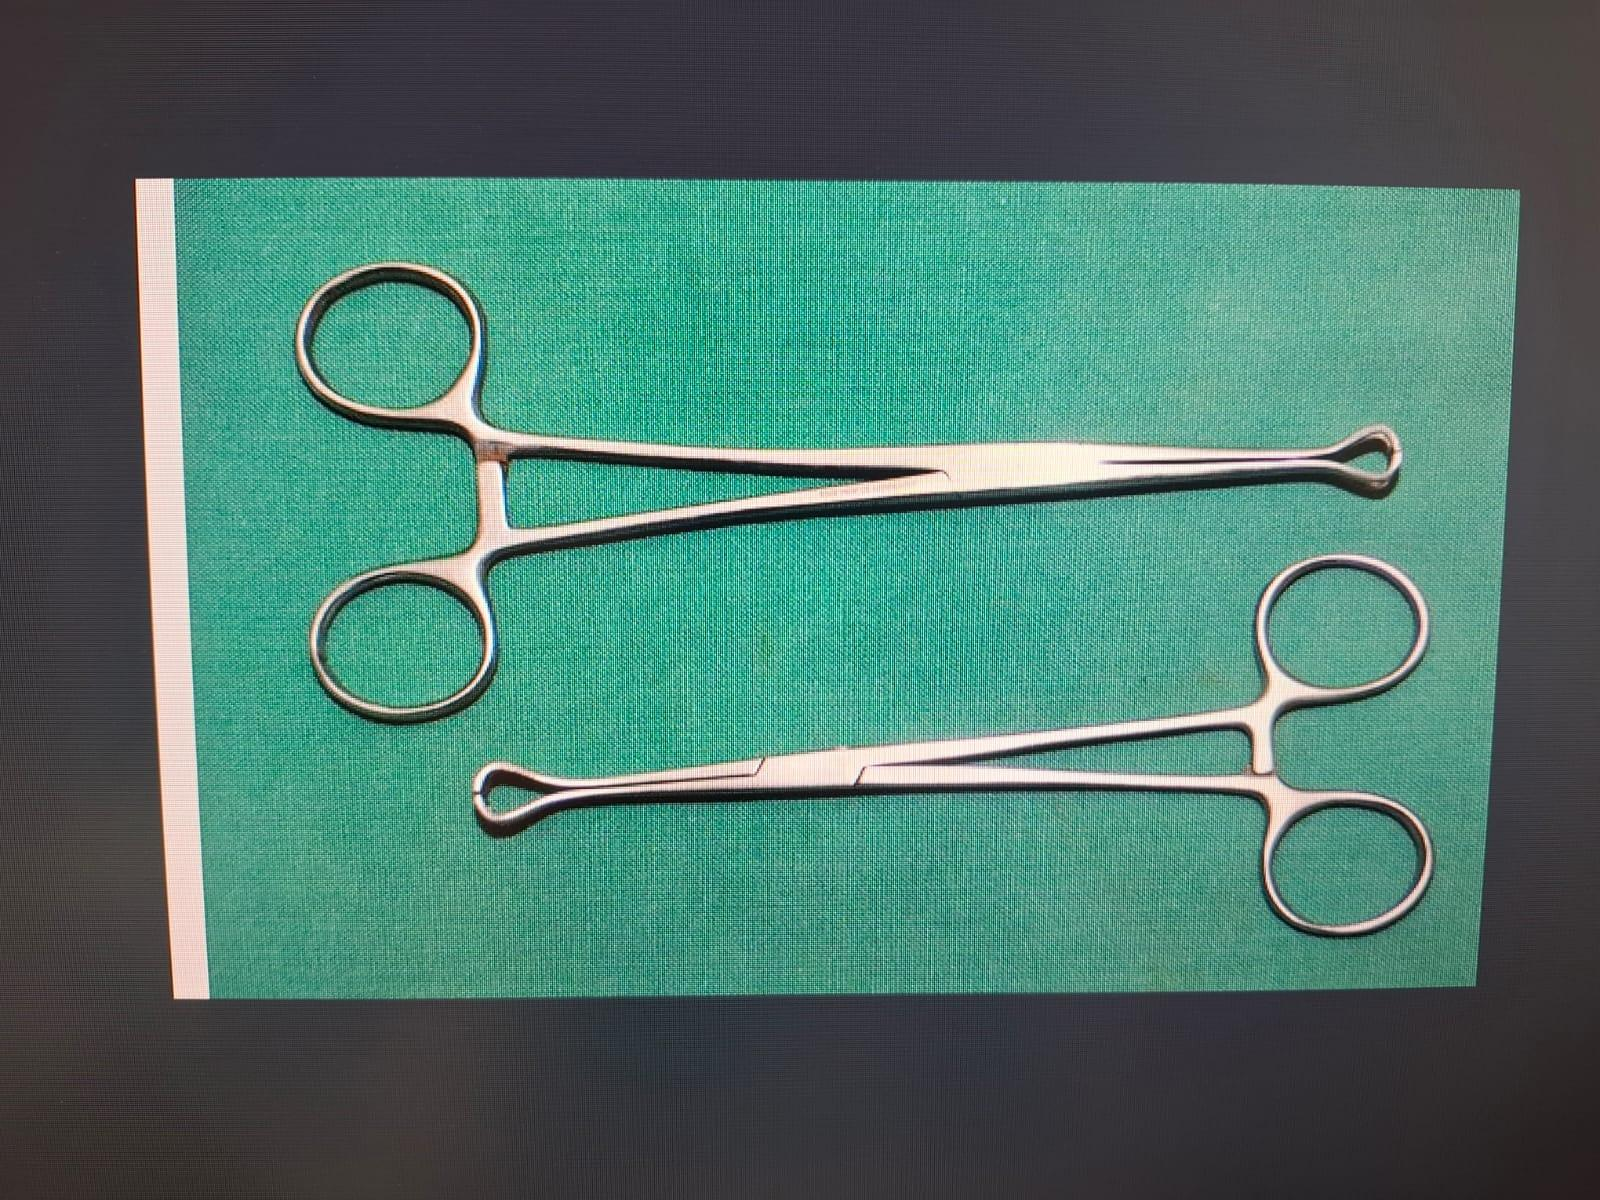Babcock Forceps: (283, 238, 1414, 734), (459, 546, 1448, 952)
